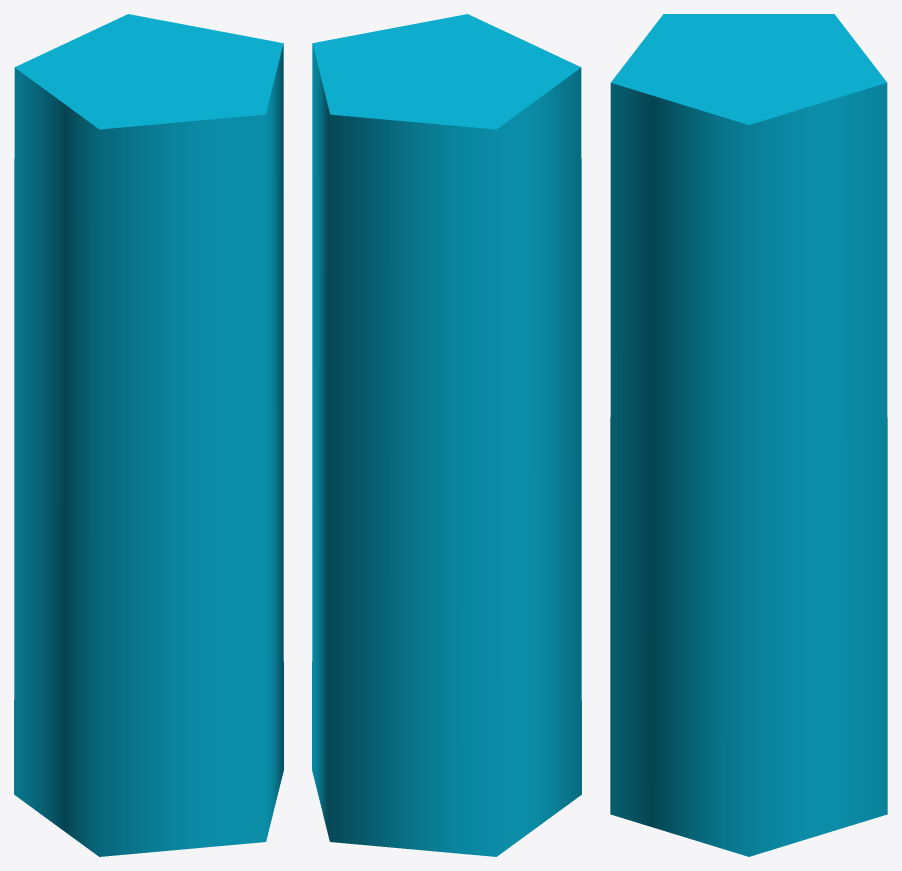
The model's file is Household_06_Lod1.fbx.
The picture shows the model from 3 angles, left to right: view 1: azimuth 30°, elevation 25°; view 2: azimuth 150°, elevation 25°; view 3: azimuth 270°, elevation 25°; orthographic projection.
Visible parts, largest first — view 1: Household_06_Lod1; view 2: Household_06_Lod1; view 3: Household_06_Lod1.
Boxes of the visible parts, x1,y1,x2,y2 form: Household_06_Lod1: [14, 14, 283, 856]; Household_06_Lod1: [312, 14, 581, 856]; Household_06_Lod1: [610, 14, 887, 856].
Size of the model in its own units: 9.36 by 28.62 by 9.84.
